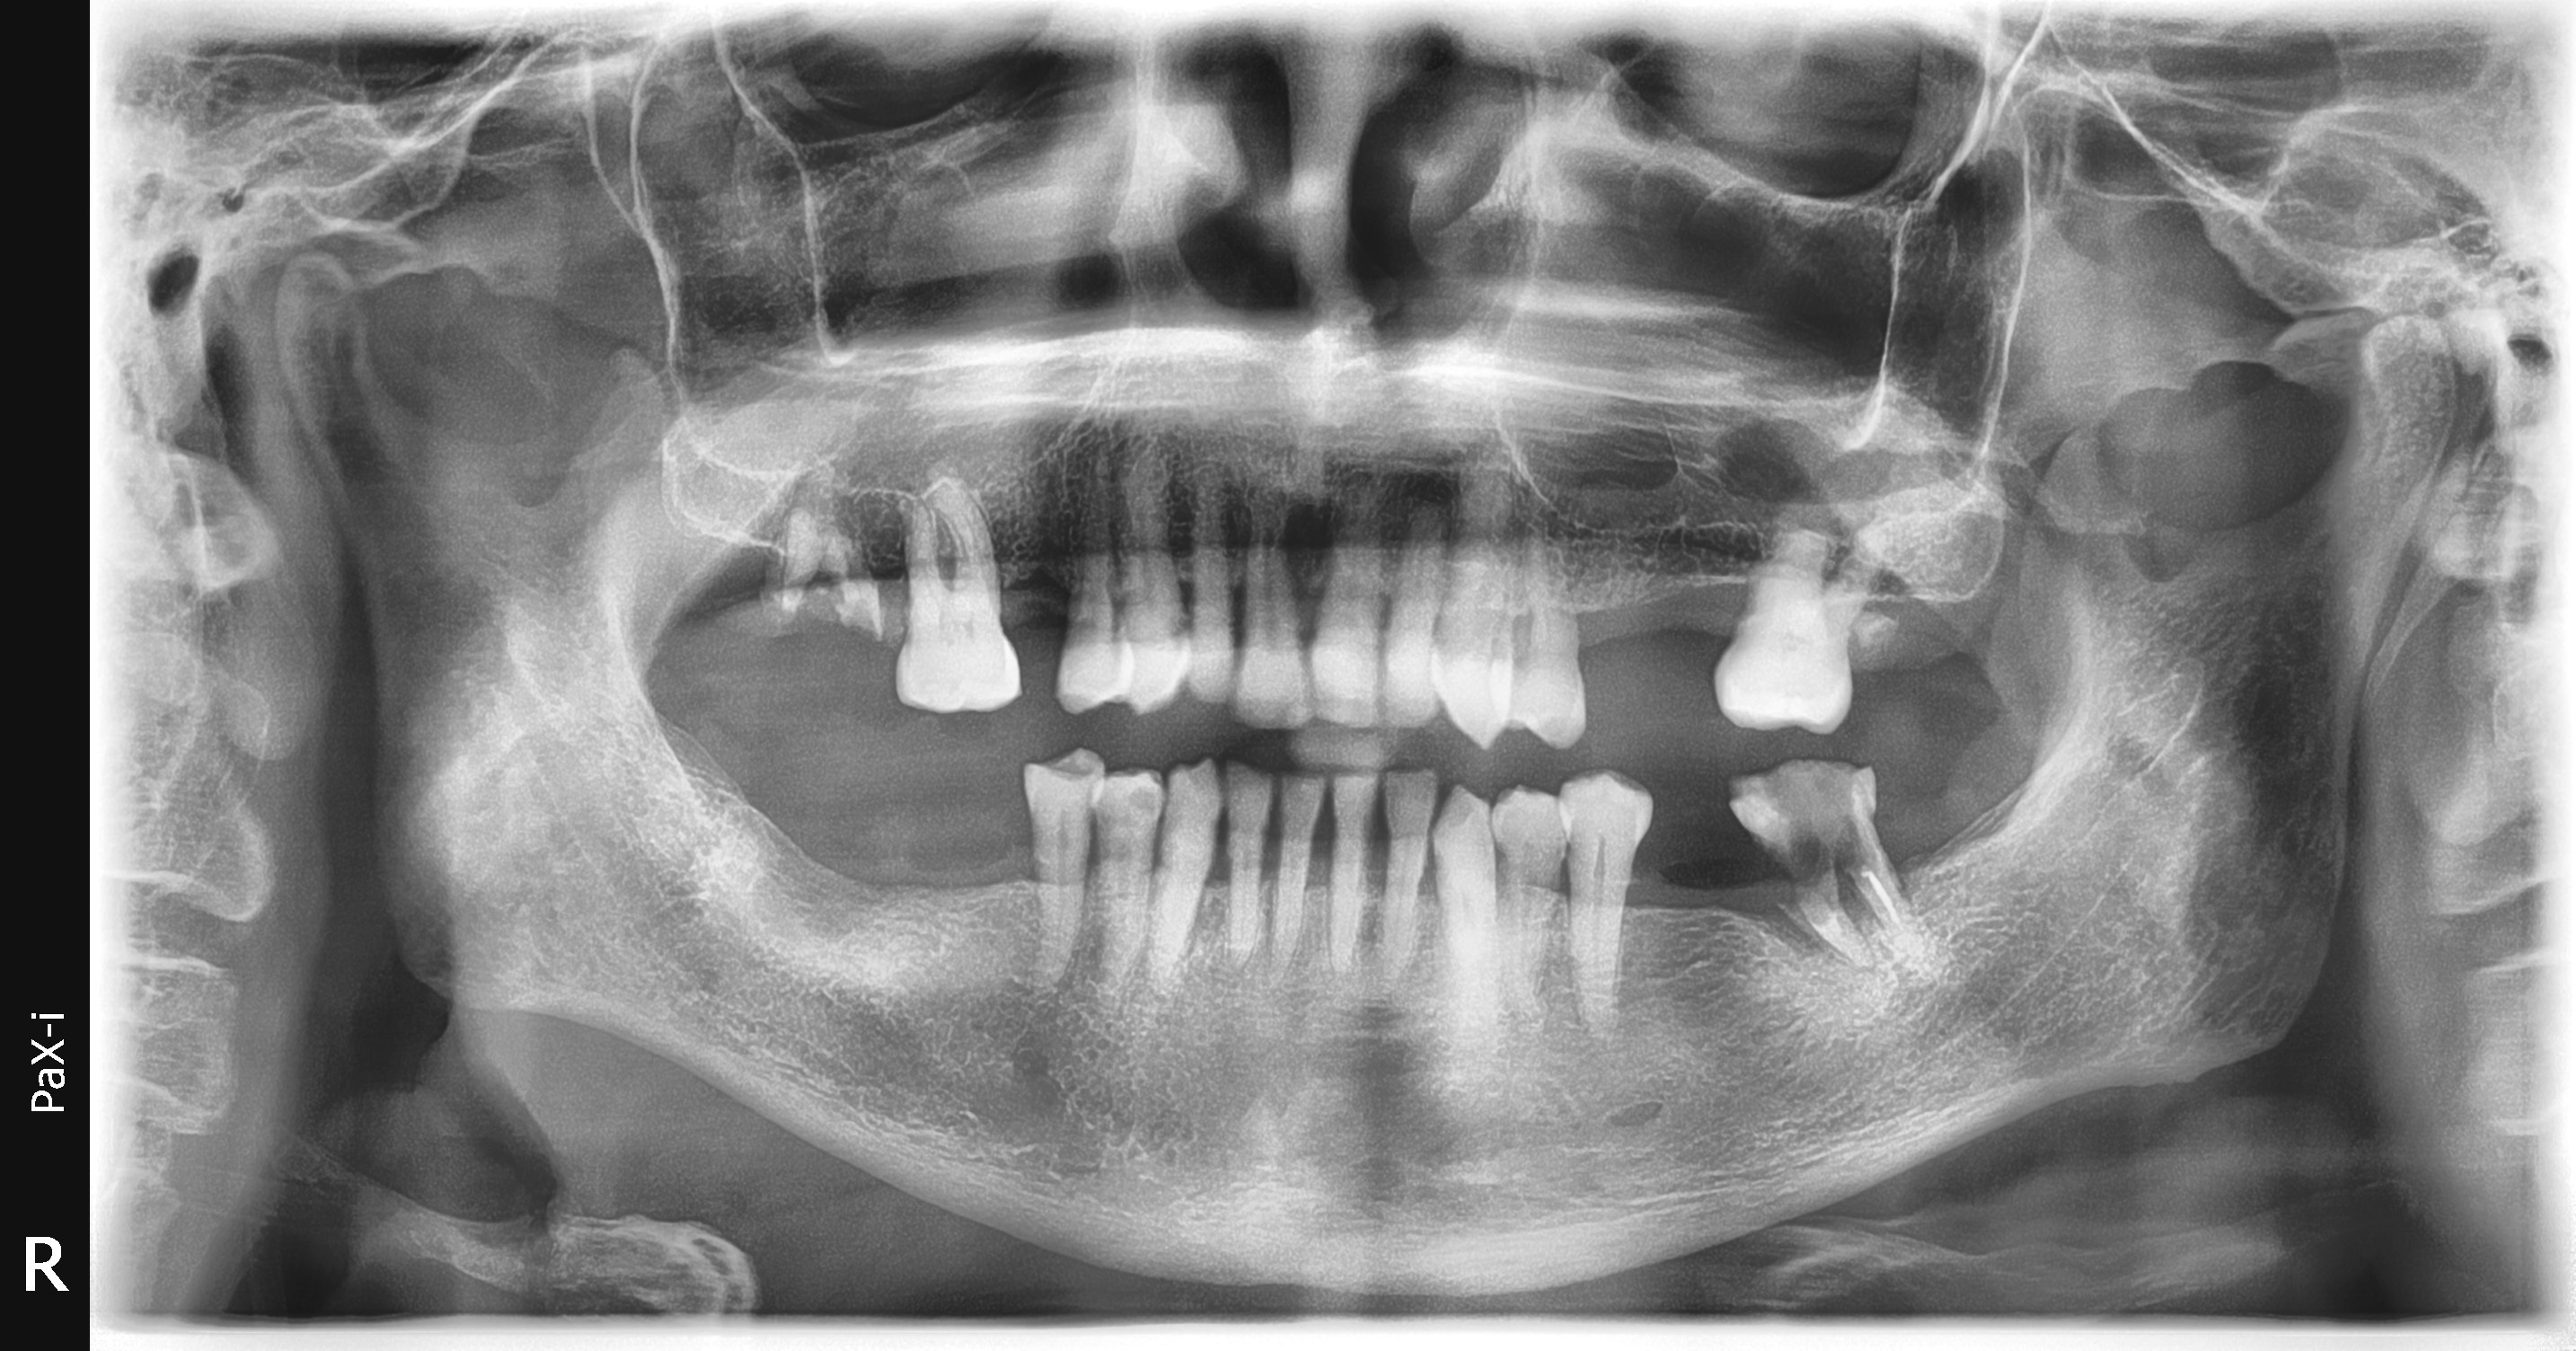API: (910, 458, 2576, 1351)
BON: (799, 416, 2576, 1351)
CAR: (550, 380, 1705, 1194)
END: (913, 407, 2576, 1341)
FUR: (894, 397, 2576, 1324)
ROT: (370, 199, 1194, 809)
